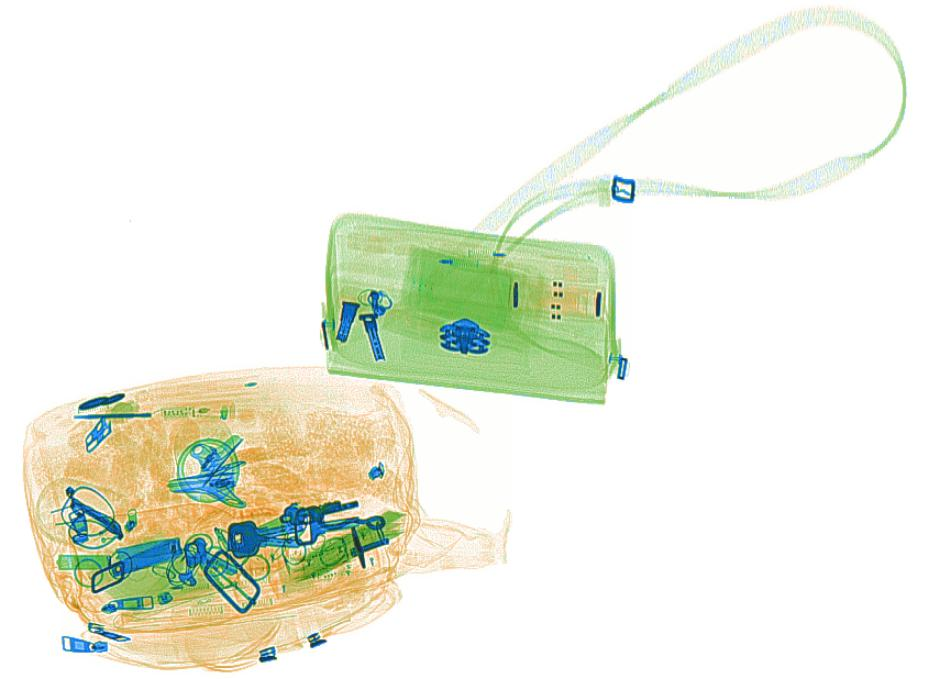battery: (54, 553, 113, 572)
